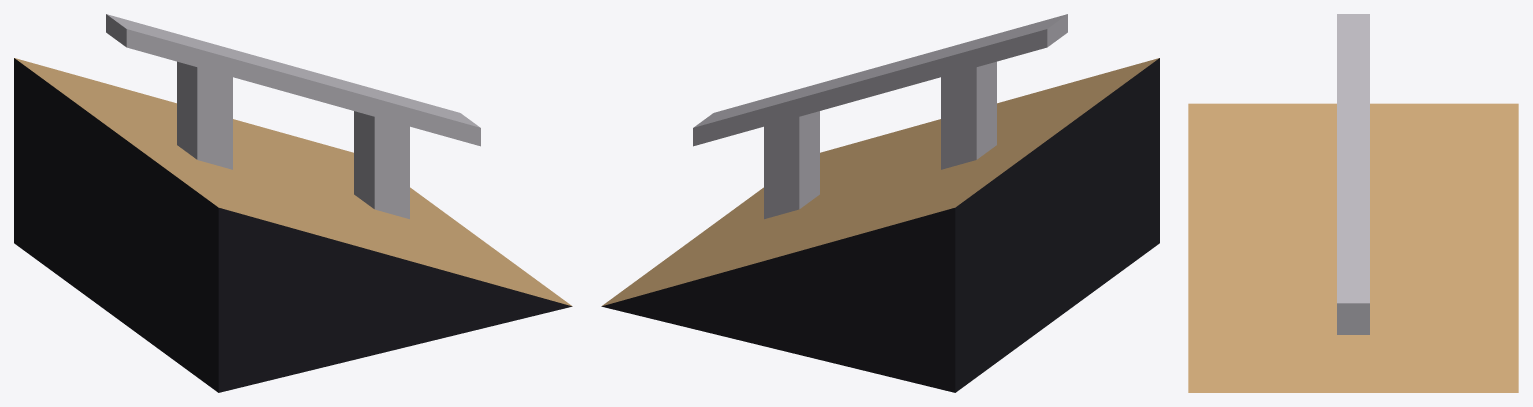
File: Rail_Ramp_Short.fbx
3 renders of one model, left to right at view 1: azimuth 30°, elevation 25°; view 2: azimuth 150°, elevation 25°; view 3: azimuth 270°, elevation 25°, orthographic. The views are drawn at different scales.
Visible parts, largest first — view 1: Rail_Ramp_Short; view 2: Rail_Ramp_Short; view 3: Rail_Ramp_Short.
Part boxes in pixels (left/top/right/bottom): Rail_Ramp_Short: left=14, top=14, right=572, bottom=392; Rail_Ramp_Short: left=601, top=14, right=1159, bottom=392; Rail_Ramp_Short: left=1188, top=14, right=1518, bottom=392.
Size of the model in its own units: 10 by 8 by 10.
